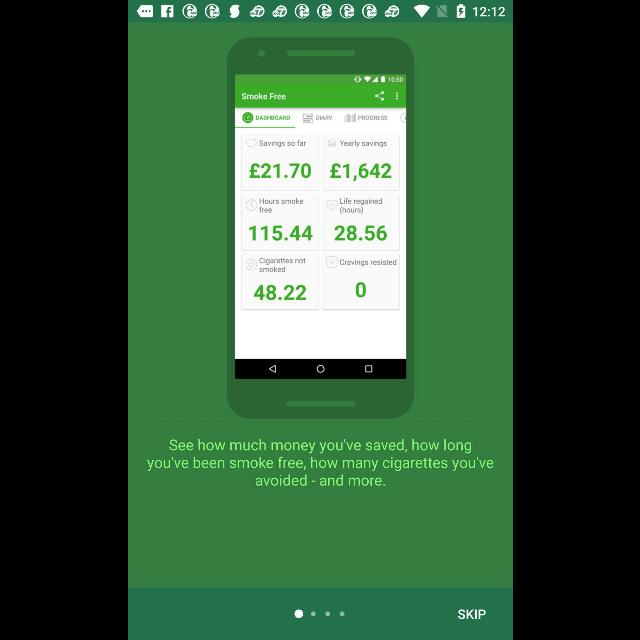image: (226, 37, 414, 419)
pageindicator: (294, 610, 344, 618)
text: (457, 608, 485, 620)
textbutton: (146, 439, 494, 487)
uppertaskbar: (128, 1, 512, 23)
